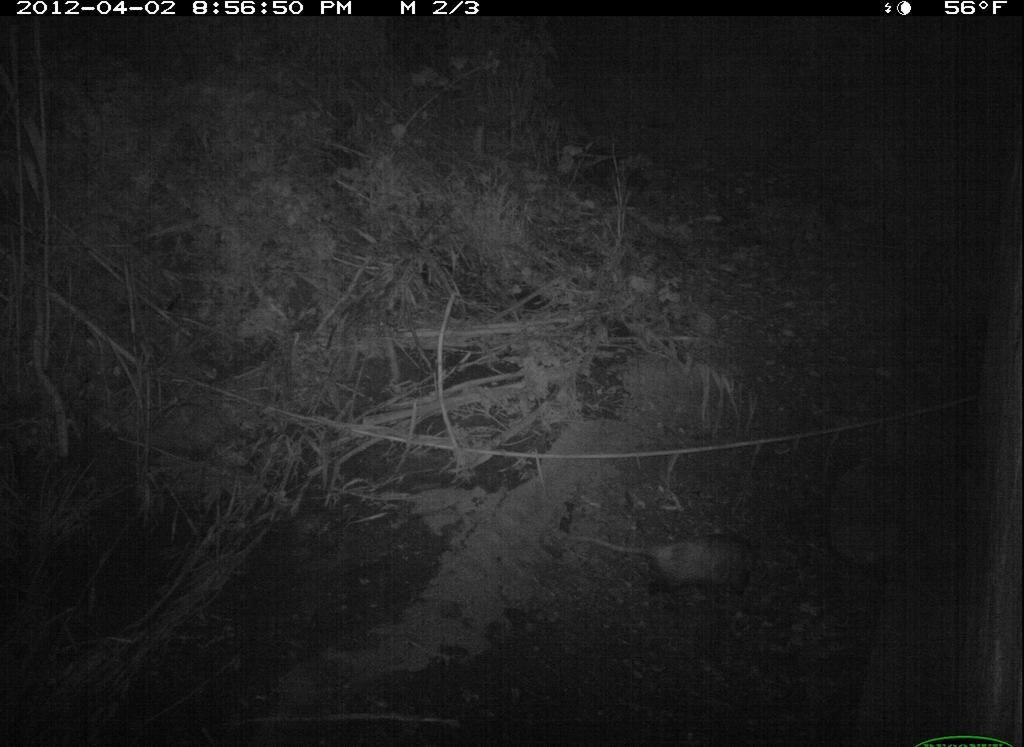opossum: (541, 505, 776, 602)
